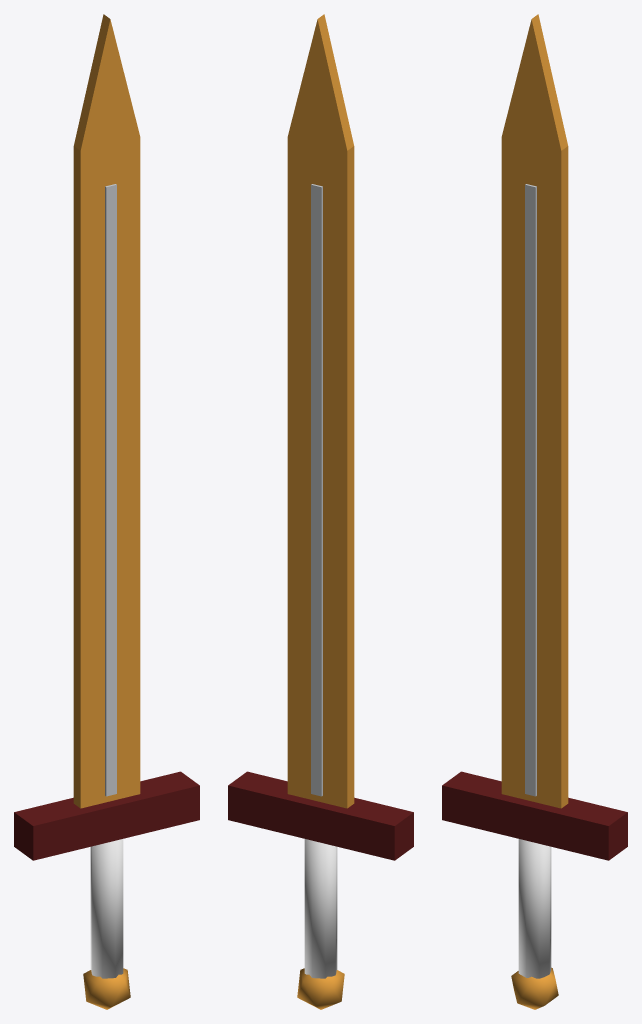
File: flying_dragon.glb
The picture shows the model from 3 angles, left to right: view 1: azimuth 30°, elevation 25°; view 2: azimuth 150°, elevation 25°; view 3: azimuth 330°, elevation 25°; orthographic projection.
Parts seen in each view (by area): view 1: flying_dragon_v0; view 2: flying_dragon_v0; view 3: flying_dragon_v0.
Part boxes in pixels (left/top/right/bottom): flying_dragon_v0: left=14, top=14, right=199, bottom=1009; flying_dragon_v0: left=228, top=14, right=413, bottom=1009; flying_dragon_v0: left=442, top=14, right=627, bottom=1009.
Bounding box in the file's own units: 0.252 × 1.44 × 0.0595.
